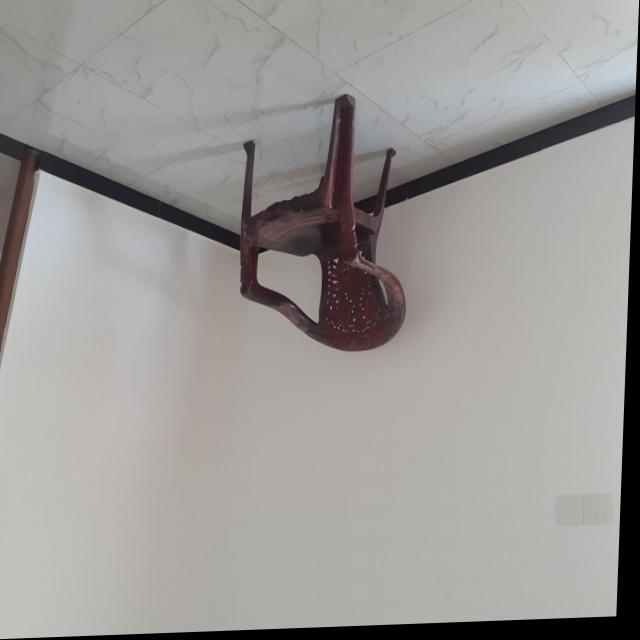Chair: (237, 95, 412, 361)
